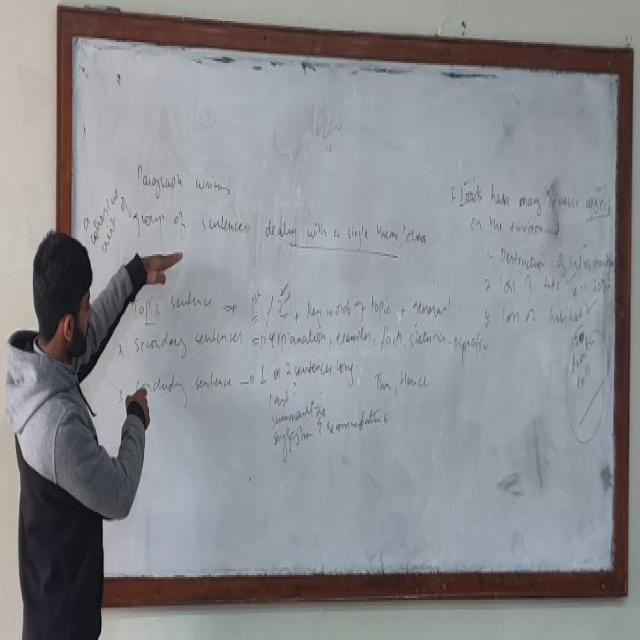Instructor: (12, 200, 116, 633)
White-board: (61, 22, 629, 600)
